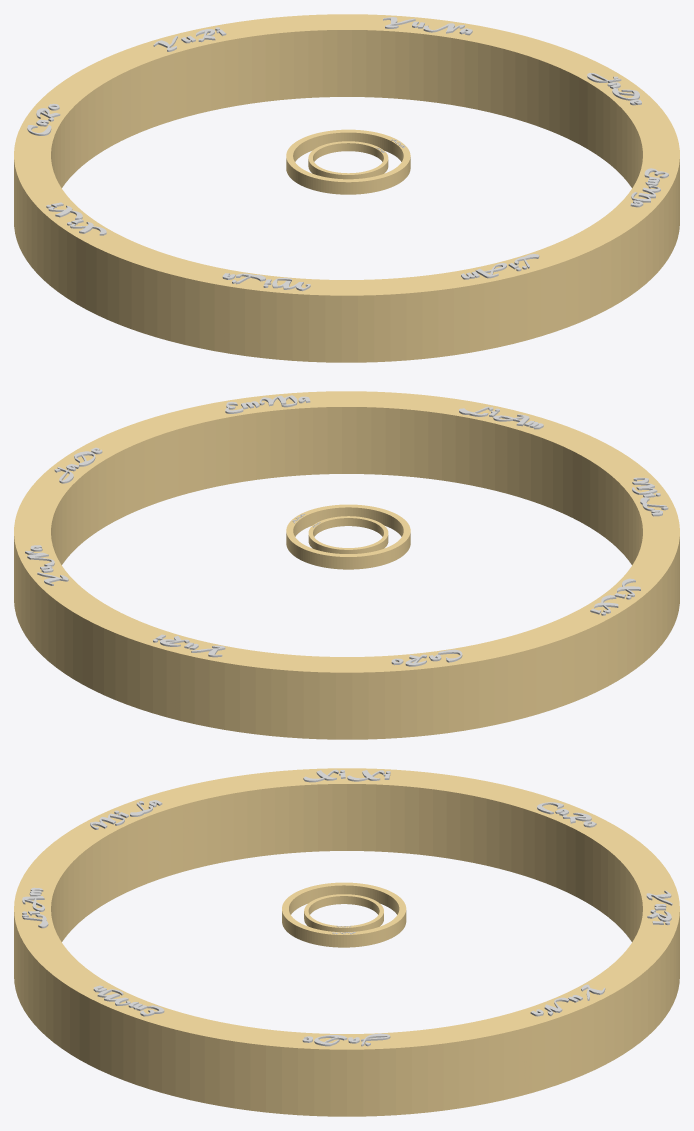
Rendered from Cercle_Harmonie.glb.
3 views of the same model, one above another, from view 1: azimuth 30°, elevation 25°; view 2: azimuth 150°, elevation 25°; view 3: azimuth 270°, elevation 25° (orthographic).
Visible parts, largest first — view 1: Cylinder, Cylinder.001, Cylinder.002, Avatars.006, Avatars.008, Avatars.007, Avatars.001, Avatars.005, Avatars.004; view 2: Cylinder, Cylinder.001, Cylinder.002, Avatars.007, Avatars.006, Avatars.008, Avatars.004, Avatars.001, Avatars.003, Avatars.005; view 3: Cylinder, Cylinder.001, Cylinder.002, Avatars.006, Avatars.005, Avatars.008, Avatars.001, Avatars.007, Avatars.004, Avatars.002.
Boxes of the visible parts, box(x1,y1,x2,y2) form: Cylinder: box(14, 14, 679, 362); Cylinder.001: box(286, 129, 410, 194); Cylinder.002: box(308, 141, 388, 179); Avatars.006: box(630, 168, 668, 207); Avatars.008: box(222, 273, 310, 291); Avatars.007: box(461, 254, 539, 279); Avatars.001: box(46, 202, 106, 235); Avatars.005: box(587, 73, 641, 105); Avatars.004: box(383, 17, 472, 35); Cylinder: box(14, 391, 679, 739); Cylinder.001: box(286, 504, 410, 569); Cylinder.002: box(308, 516, 388, 553); Avatars.007: box(459, 406, 543, 429); Avatars.006: box(225, 395, 310, 413); Avatars.008: box(632, 477, 668, 516); Avatars.004: box(25, 545, 68, 585); Avatars.001: box(590, 578, 640, 615); Avatars.003: box(153, 634, 225, 657); Avatars.005: box(54, 447, 102, 483); Cylinder: box(14, 768, 679, 1116); Cylinder.001: box(282, 882, 406, 947); Cylinder.002: box(304, 894, 383, 932); Avatars.006: box(93, 985, 164, 1016); Avatars.005: box(302, 1033, 390, 1046); Avatars.008: box(90, 800, 162, 829); Avatars.001: box(303, 769, 390, 782); Avatars.007: box(22, 887, 48, 928); Avatars.004: box(530, 984, 605, 1016); Avatars.002: box(537, 802, 596, 827).
Bounding box in the file's own units: 13.5 × 1.58 × 13.5.
